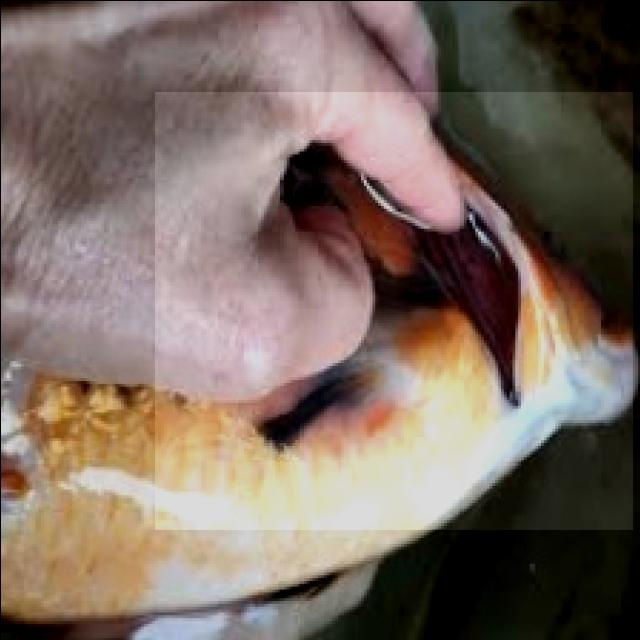Gill Disease: (154, 90, 632, 528)
